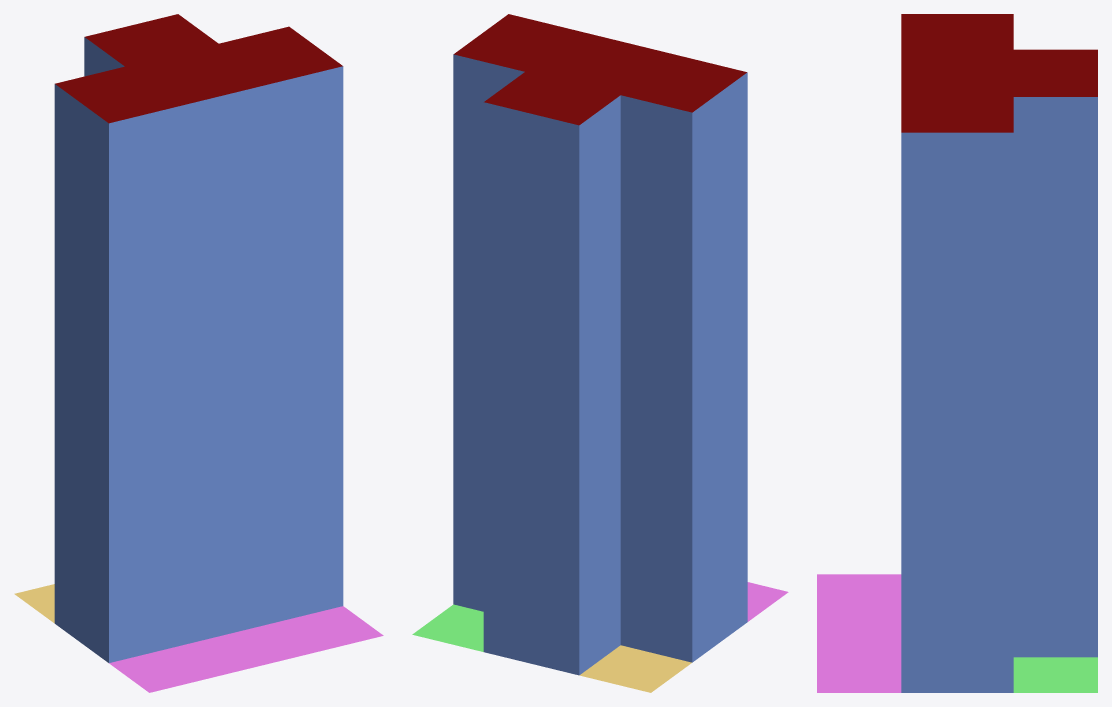
Rendered from WallTUp.fbx.
3 views of the same model, side by side, from view 1: azimuth 30°, elevation 25°; view 2: azimuth 150°, elevation 25°; view 3: azimuth 270°, elevation 25° (orthographic). The views are drawn at different scales.
Parts seen in each view (by area): view 1: WallTUp; view 2: WallTUp; view 3: WallTUp.
Boxes of the visible parts, bbox=[...] form: WallTUp: bbox=[14, 14, 383, 692]; WallTUp: bbox=[412, 14, 788, 692]; WallTUp: bbox=[817, 14, 1097, 692].
Size of the model in its own units: 100 by 220 by 100.
